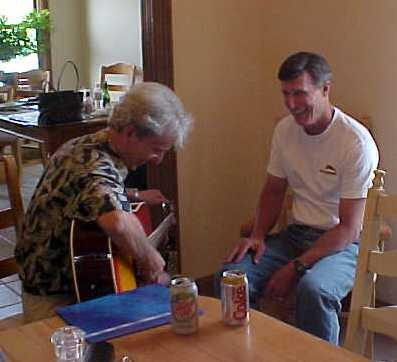person: (16, 83, 193, 326)
